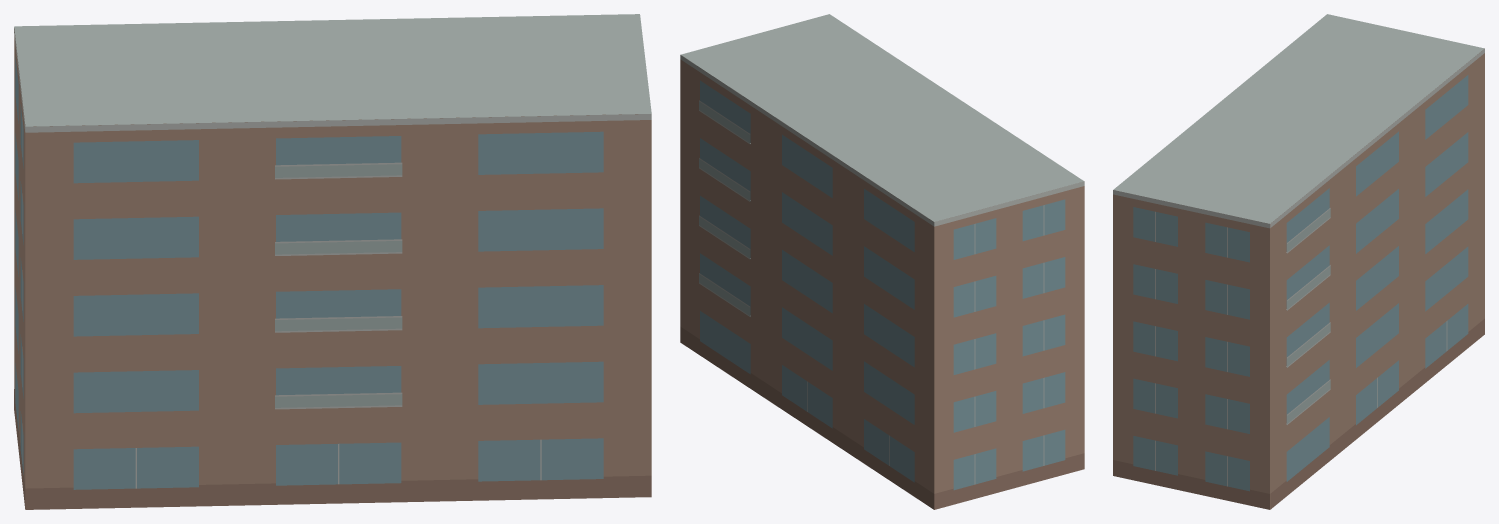
Rendered from survey-upis-32555104.glb.
3 views of the same model, side by side, from view 1: azimuth 30°, elevation 25°; view 2: azimuth 150°, elevation 25°; view 3: azimuth 270°, elevation 25° (orthographic). The views are drawn at different scales.
Parts seen in each view (by area): view 1: survey-upis-32555104.tmp; view 2: survey-upis-32555104.tmp; view 3: survey-upis-32555104.tmp.
Boxes of the visible parts, box(x1,y1,x2,y2) form: survey-upis-32555104.tmp: box(14, 14, 651, 509); survey-upis-32555104.tmp: box(680, 14, 1084, 509); survey-upis-32555104.tmp: box(1113, 14, 1484, 509).
Bounding box in the file's own units: 24.01 × 15.25 × 17.97.
